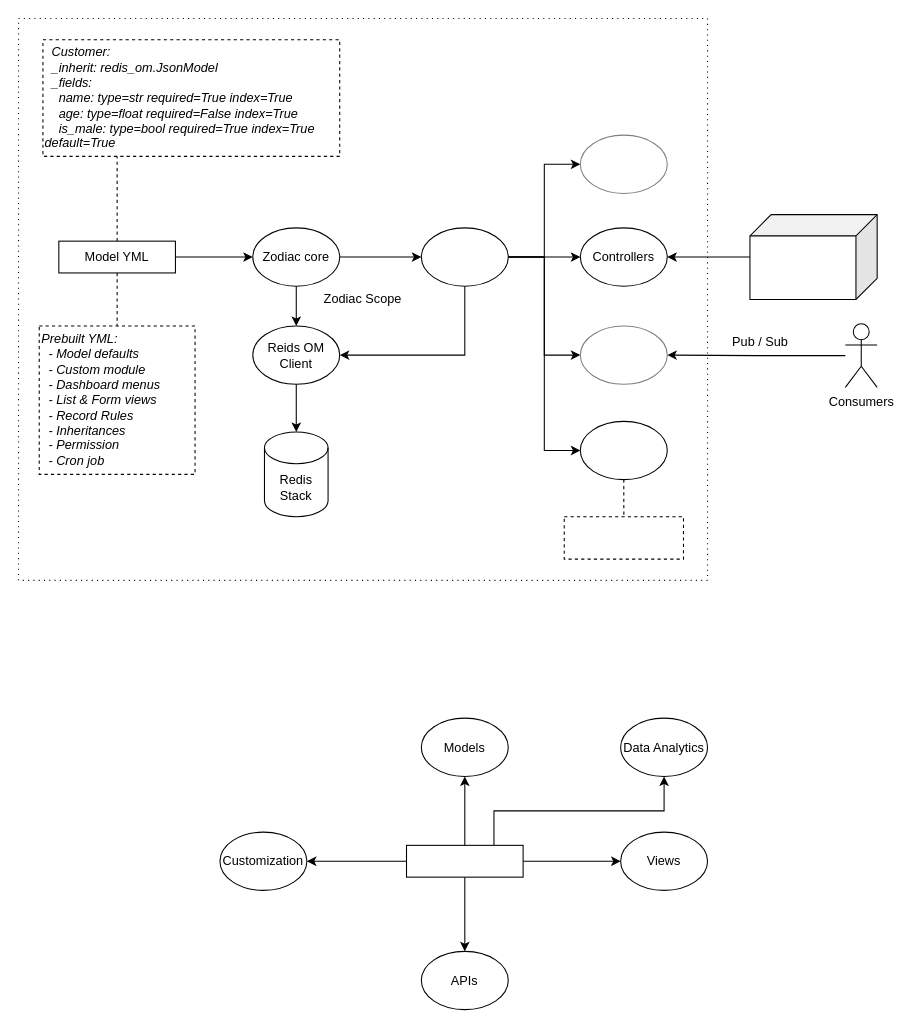
Image size: 912x1028. Some labels were removed from this diagram. Each missing label, with the centre of its shape:
"Allows to extend" belongs at (x=623, y=537).
"Authelia" belongs at (x=623, y=163).
"Templates & UI" belongs at (x=623, y=450).
"Tornado" belongs at (x=464, y=256).
"UI Builders" belongs at (x=813, y=256).
"Web Socket" belongs at (x=623, y=354).
"YML" belongs at (x=464, y=860).
